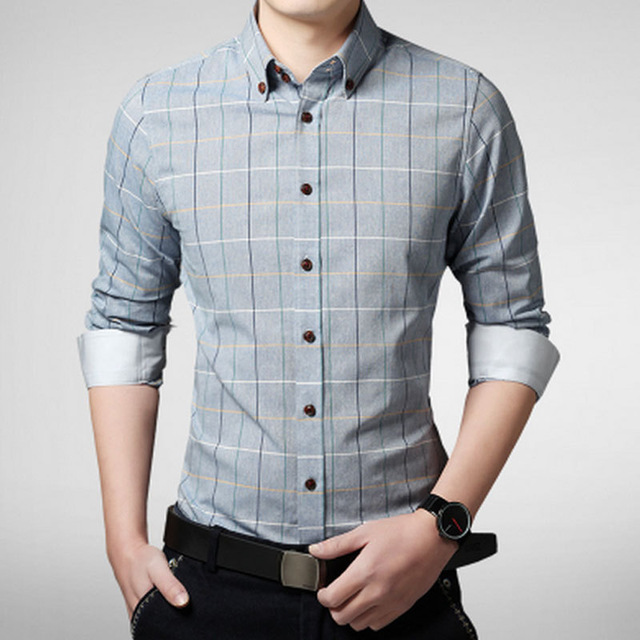Shirt: (63, 15, 583, 530)
